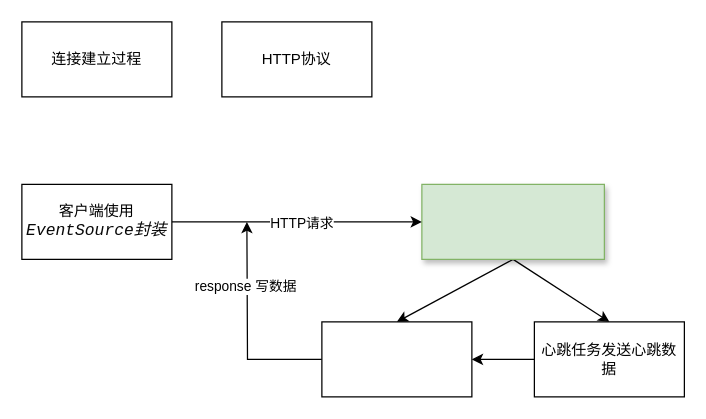
Image size: 706x419. Some labels were removed from this diagram. The shapes that lost their labels are listed below. From the top down, each one's centre as x and y in pixels, then its label:
(514,223): 服务端spring的封装核心对象 SseEmitter
(396,359): 构建SeeEmitter对象与之通信发送数据
